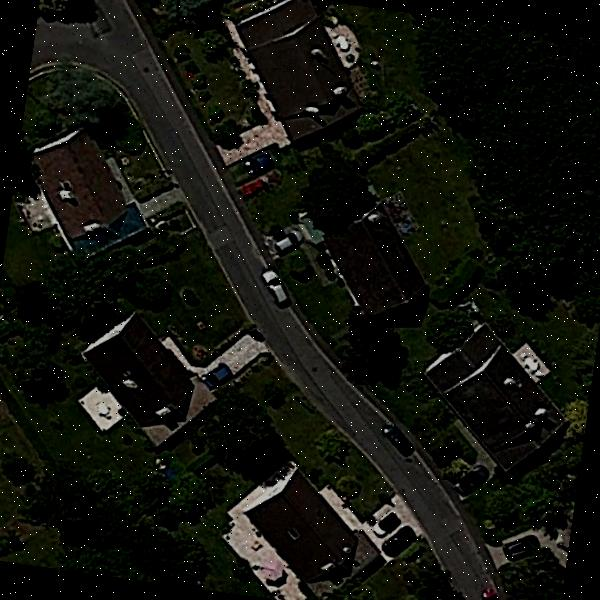Buildings: (222, 0, 364, 132), (77, 312, 209, 441), (440, 324, 562, 456), (29, 123, 140, 252), (235, 473, 350, 581), (326, 209, 422, 313)
